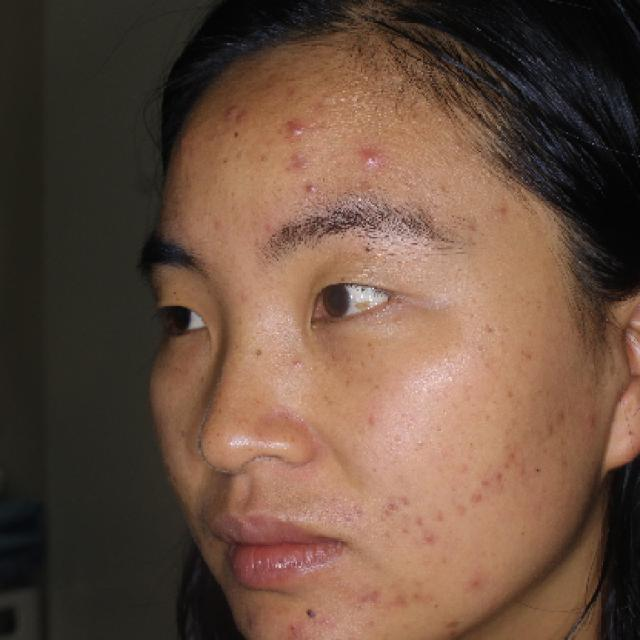Acne: (349, 135, 400, 180), (277, 115, 317, 143), (274, 112, 275, 114)
Blackheads: (299, 172, 326, 202), (296, 602, 324, 624)
Whiteheads: (284, 351, 310, 374)
